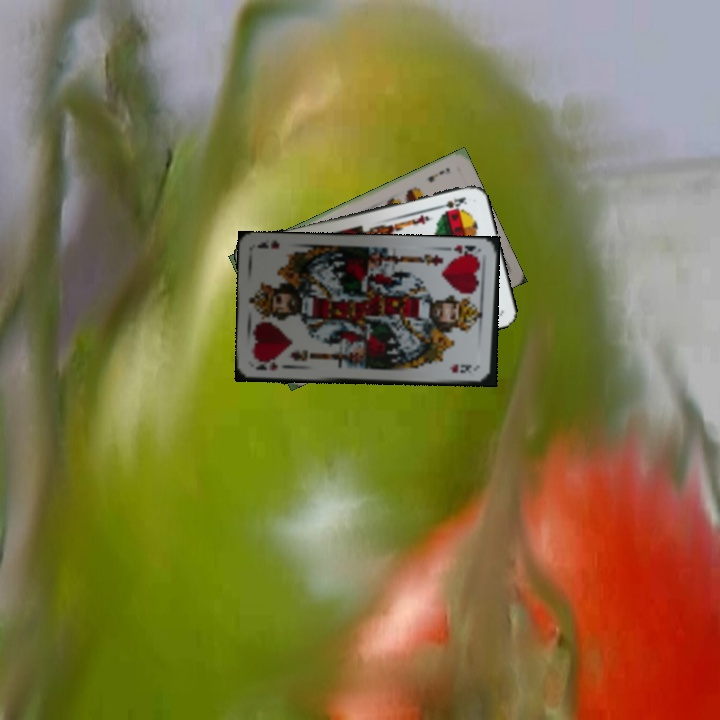E7: (424, 163, 453, 185)
HK: (442, 240, 480, 260), (251, 356, 291, 372)
SK: (432, 193, 470, 212)
